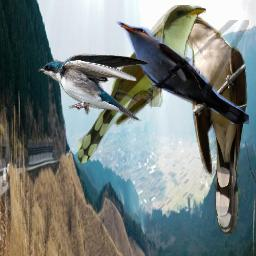Cuckoo: (78, 5, 206, 163), (167, 16, 248, 234), (116, 20, 249, 124)
Swallow: (38, 53, 149, 121)
